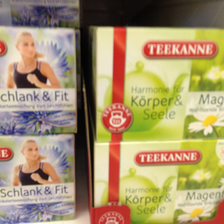tea: (94, 26, 224, 144), (92, 141, 224, 222), (1, 26, 77, 134), (1, 134, 77, 224)
